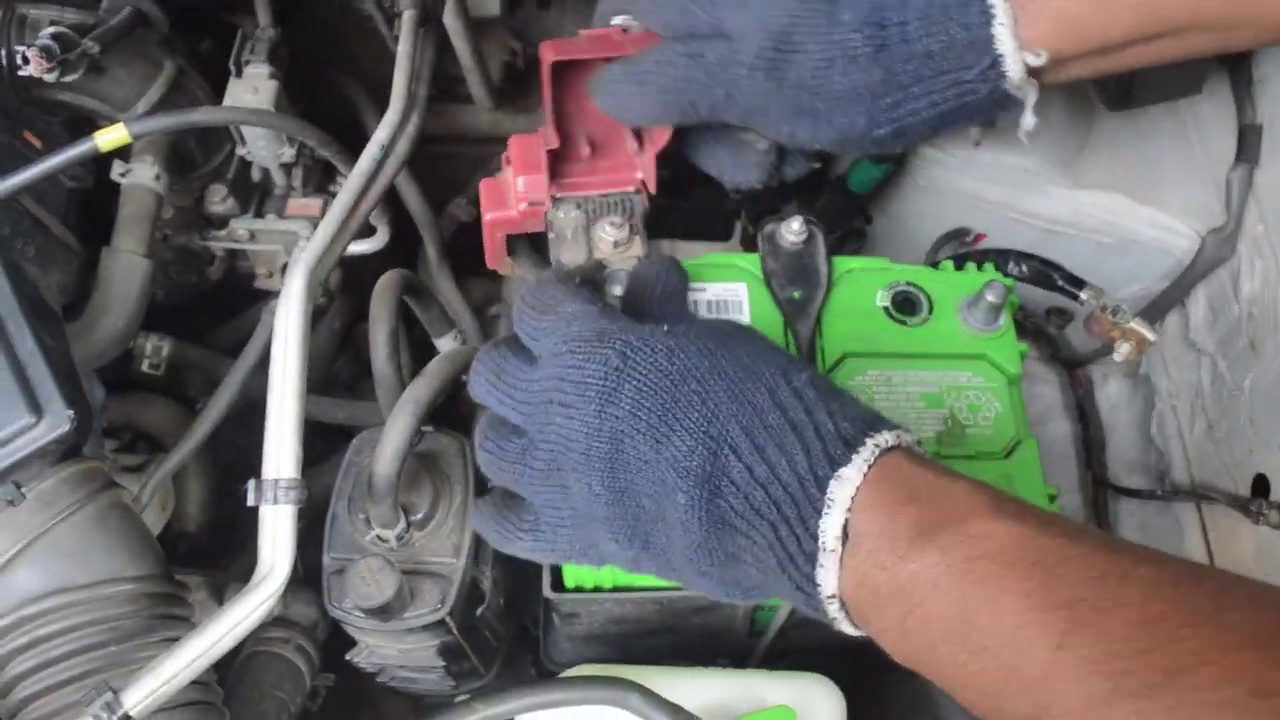battery: (546, 228, 1062, 586)
neg_disconnected: (930, 254, 1050, 358)
pos_touched: (492, 57, 712, 351)
